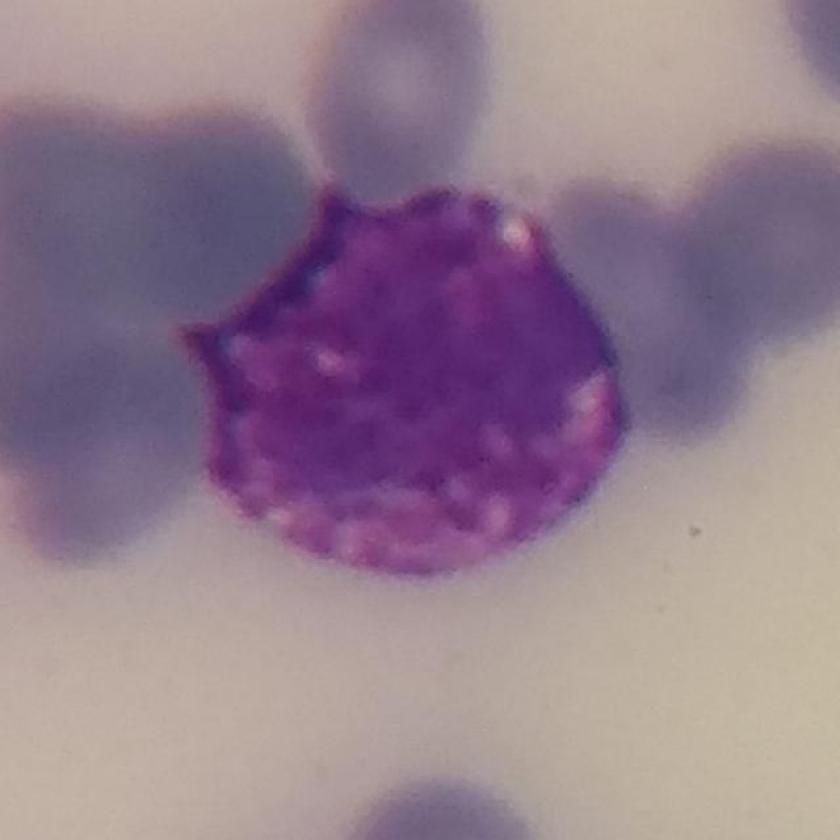basophil: (172, 174, 655, 597)
